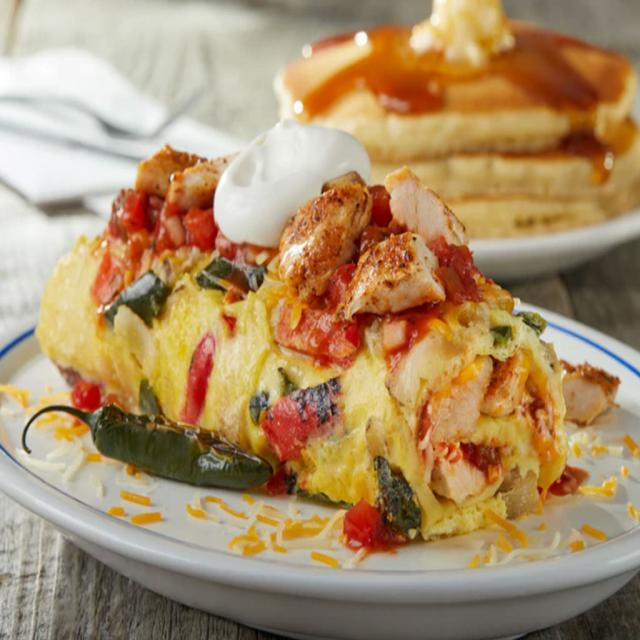Omelette: (31, 193, 574, 543)
Pancakes: (268, 19, 640, 237)
